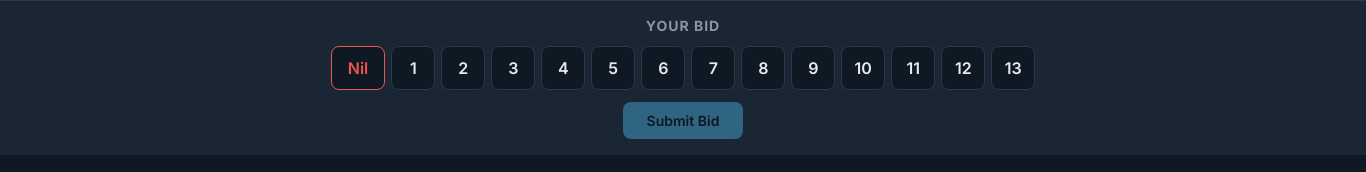
Test: BidPanel › selecting a bid highlights it and enables submit
Click the button "5".
click(613, 68)  # box [591,46,635,90]
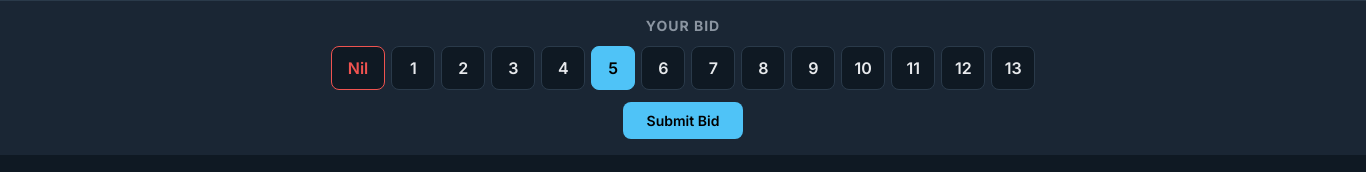
expect the button "Submit Bid" is enabled: met, box [623,102,743,139]
